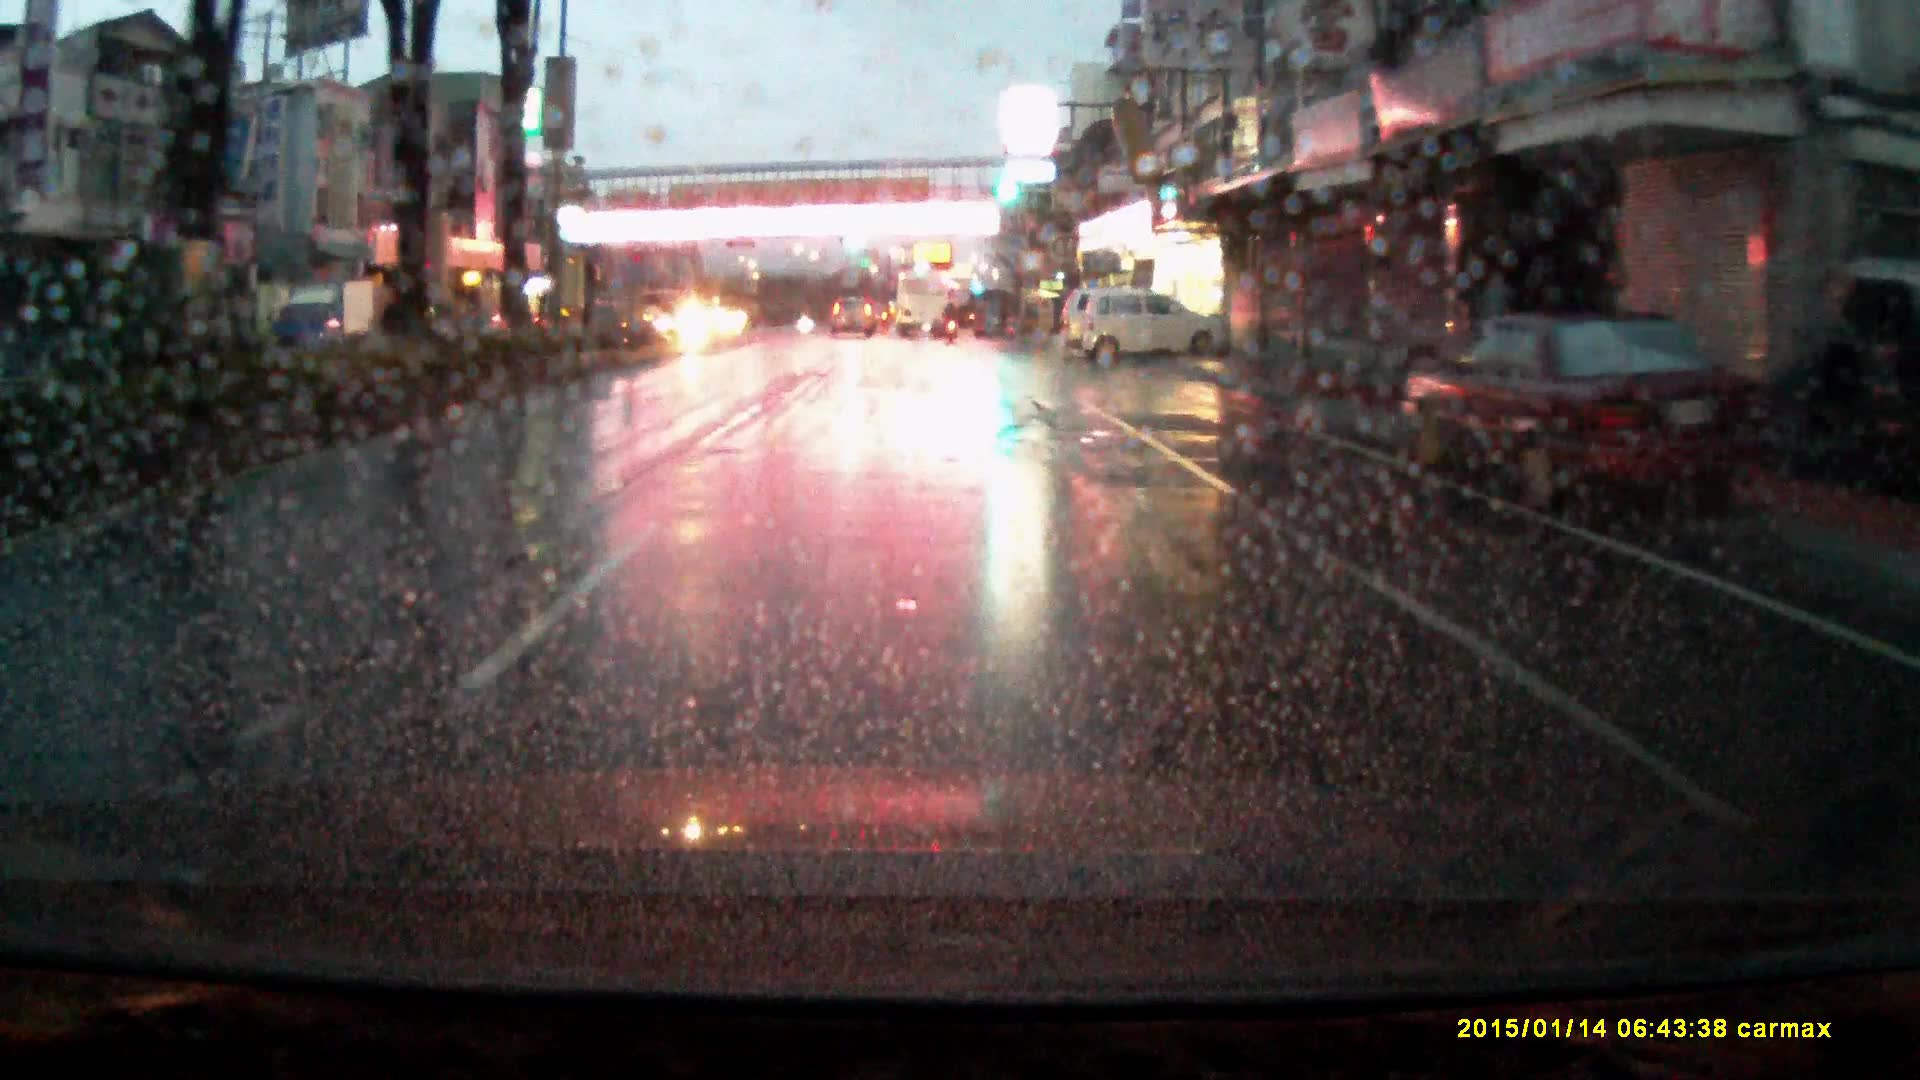rider: (942, 300, 962, 347)
vehicle: (1403, 319, 1780, 533), (1078, 294, 1233, 376), (272, 286, 373, 364), (1061, 294, 1128, 354), (897, 279, 947, 345), (832, 298, 878, 341)
